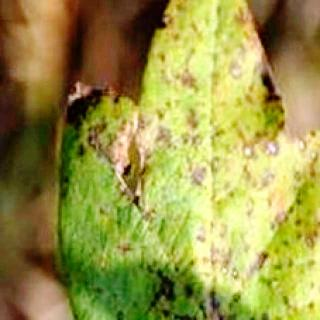leaf spot: (60, 1, 318, 320)
